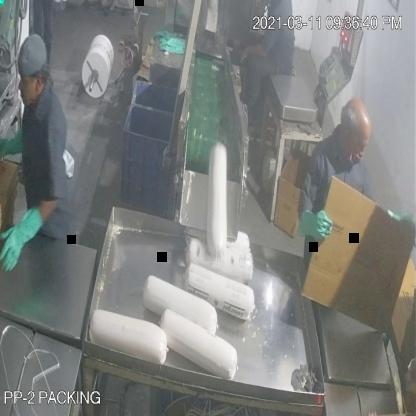glove: (0, 193, 52, 274), (297, 201, 334, 245)
no_glove: (232, 32, 271, 72)
